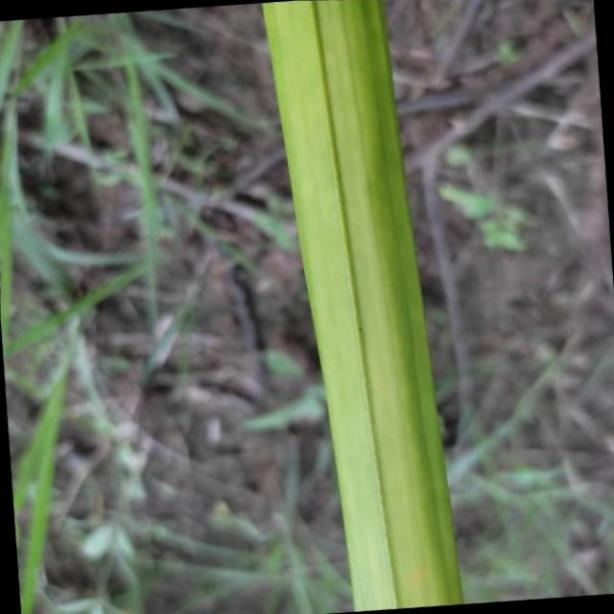nitrogen: (259, 0, 464, 614)
